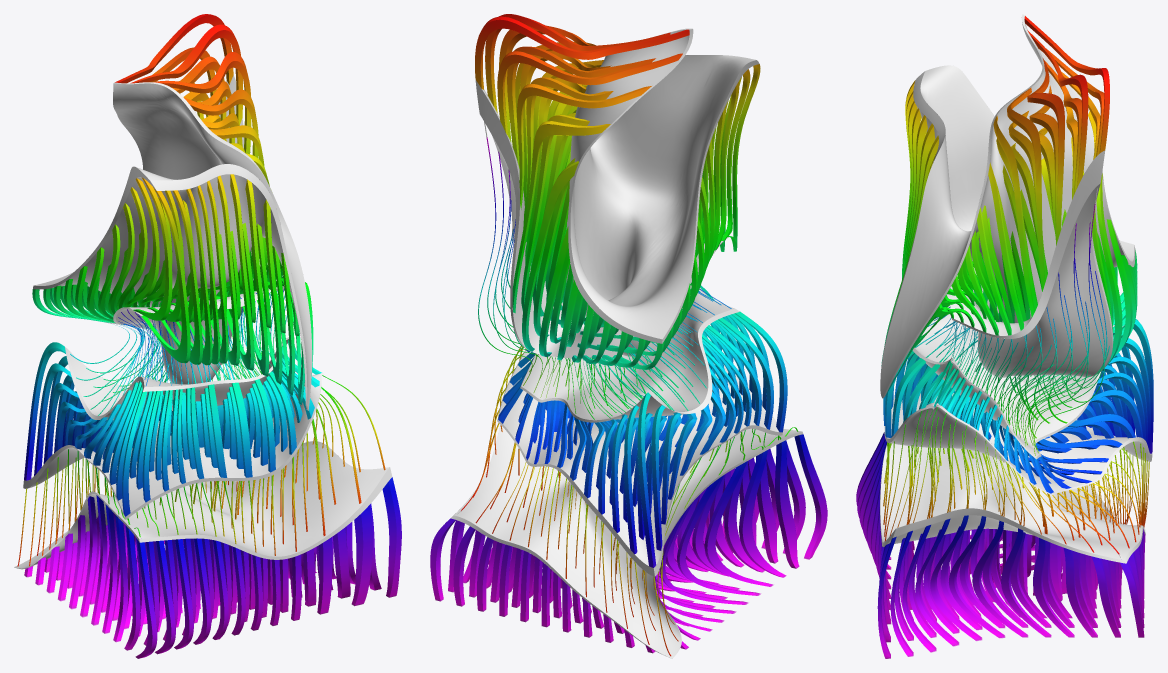
Rendered from chromiebridgeauralsection-OG-v140.glb.
3 views of the same model, side by side, from view 1: azimuth 30°, elevation 25°; view 2: azimuth 150°, elevation 25°; view 3: azimuth 270°, elevation 25° (orthographic). The views are drawn at different scales.
Parts seen in each view (by area): view 1: Merged Objects 4, Merged Objects 6; view 2: Merged Objects 4, Merged Objects 6; view 3: Merged Objects 4, Merged Objects 6.
Part boxes in pixels (box(x1,y1,x2,y2)): Merged Objects 4: box(17, 14, 401, 658); Merged Objects 6: box(14, 75, 392, 569); Merged Objects 4: box(430, 14, 827, 656); Merged Objects 6: box(450, 28, 803, 658); Merged Objects 4: box(856, 16, 1153, 658); Merged Objects 6: box(880, 14, 1152, 563).
Size of the model in its own units: 5.42 by 10.43 by 5.18.
Materials: 2 (1 with a texture image).
